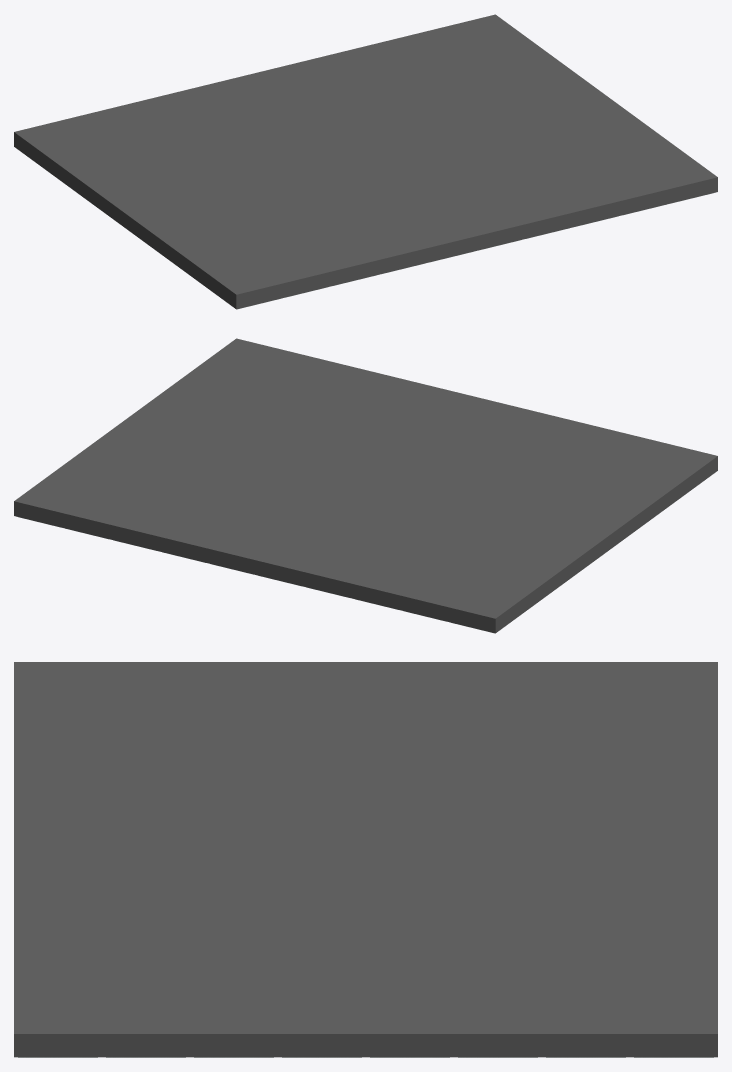
File: 3D004_Office_RoofTile.FBX
3 renders of one model, top to bottom at view 1: azimuth 30°, elevation 25°; view 2: azimuth 150°, elevation 25°; view 3: azimuth 270°, elevation 25°, orthographic. The views are drawn at different scales.
Visible parts, largest first — view 1: 3D004_Office_RoofTile; view 2: 3D004_Office_RoofTile; view 3: 3D004_Office_RoofTile.
Boxes of the visible parts, x1=… form: 3D004_Office_RoofTile: x1=14, y1=14, x2=717, y2=309; 3D004_Office_RoofTile: x1=14, y1=338, x2=717, y2=633; 3D004_Office_RoofTile: x1=14, y1=662, x2=717, y2=1057.
Size of the model in its own units: 500 by 16.03 by 400.
